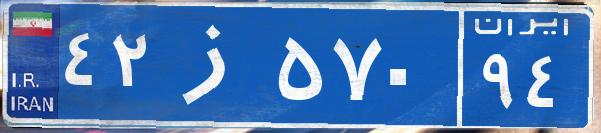0: (385, 28, 445, 110)
2: (110, 28, 158, 105)
4: (57, 26, 110, 107), (525, 38, 570, 115)
5: (273, 28, 330, 110)
7: (330, 28, 385, 110)
9: (475, 38, 525, 113)
ز: (158, 15, 273, 115)
